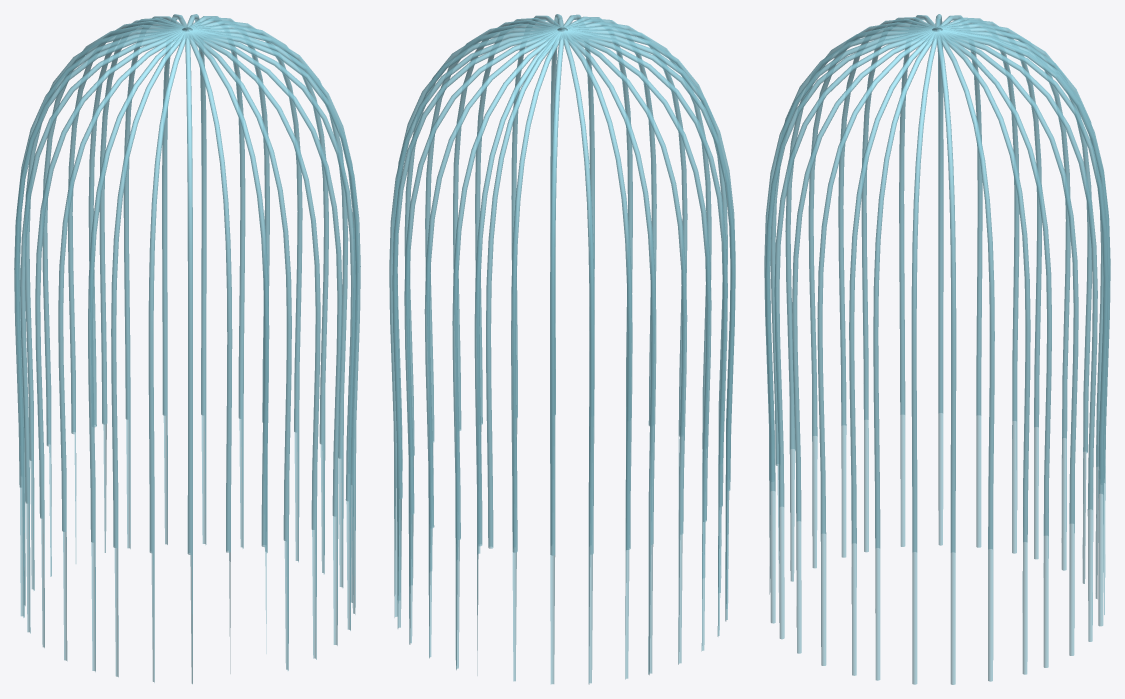
Rendered from blueglasscagelarge.gltf.
The picture shows the model from 3 angles, left to right: view 1: azimuth 30°, elevation 25°; view 2: azimuth 150°, elevation 25°; view 3: azimuth 270°, elevation 25°; orthographic projection.
Visible parts, largest first — view 1: BezierCurve; view 2: BezierCurve; view 3: BezierCurve.
Boxes of the visible parts, box(x1,y1,x2,y2) form: BezierCurve: box(14, 14, 360, 684); BezierCurve: box(389, 14, 735, 684); BezierCurve: box(764, 14, 1110, 684).
Bounding box in the file's own units: 476 × 889 × 477.
1 material, 1 textured.
